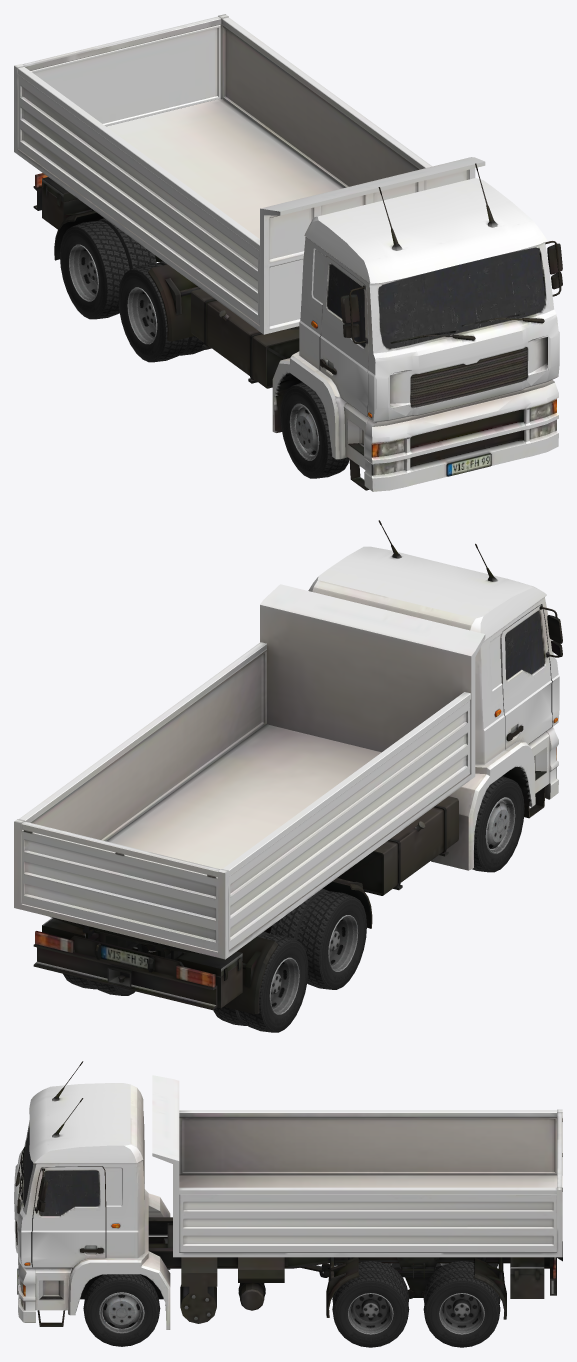
File: tatra.glb
3 renders of one model, top to bottom at view 1: azimuth 30°, elevation 25°; view 2: azimuth 150°, elevation 25°; view 3: azimuth 270°, elevation 25°, orthographic. The views are drawn at different scales.
Visible parts, largest first — view 1: body_main_1, platform, platform_door, wheel_back_axis2_right, wheel_back_axis1_right, wheel_front_right; view 2: platform, body_main_1, platform_door, wheel_back_axis1_right, wheel_back_axis2_right, wheel_front_right; view 3: platform, body_main_1, wheel_back_axis1_left, wheel_back_axis2_left, wheel_front_left.
Part boxes in pixels (<box>): body_main_1: <box>33,163,562,491</box>; platform: <box>14,14,485,334</box>; platform_door: <box>30,25,220,126</box>; wheel_back_axis2_right: <box>60,218,156,319</box>; wheel_back_axis1_right: <box>118,261,204,362</box>; wheel_front_right: <box>280,382,349,478</box>; platform: <box>14,584,485,959</box>; body_main_1: <box>33,520,562,1014</box>; platform_door: <box>22,830,217,951</box>; wheel_back_axis1_right: <box>270,888,366,989</box>; wheel_back_axis2_right: <box>213,931,308,1032</box>; wheel_front_right: <box>472,776,524,872</box>; platform: <box>152,1075,562,1257</box>; body_main_1: <box>14,1061,562,1329</box>; wheel_back_axis1_left: <box>332,1261,409,1347</box>; wheel_back_axis2_left: <box>423,1261,500,1347</box>; wheel_front_left: <box>83,1274,160,1346</box>.
Size of the model in its own units: 2.1 by 2.7 by 5.82.
Materials: 4 (4 with a texture image).
